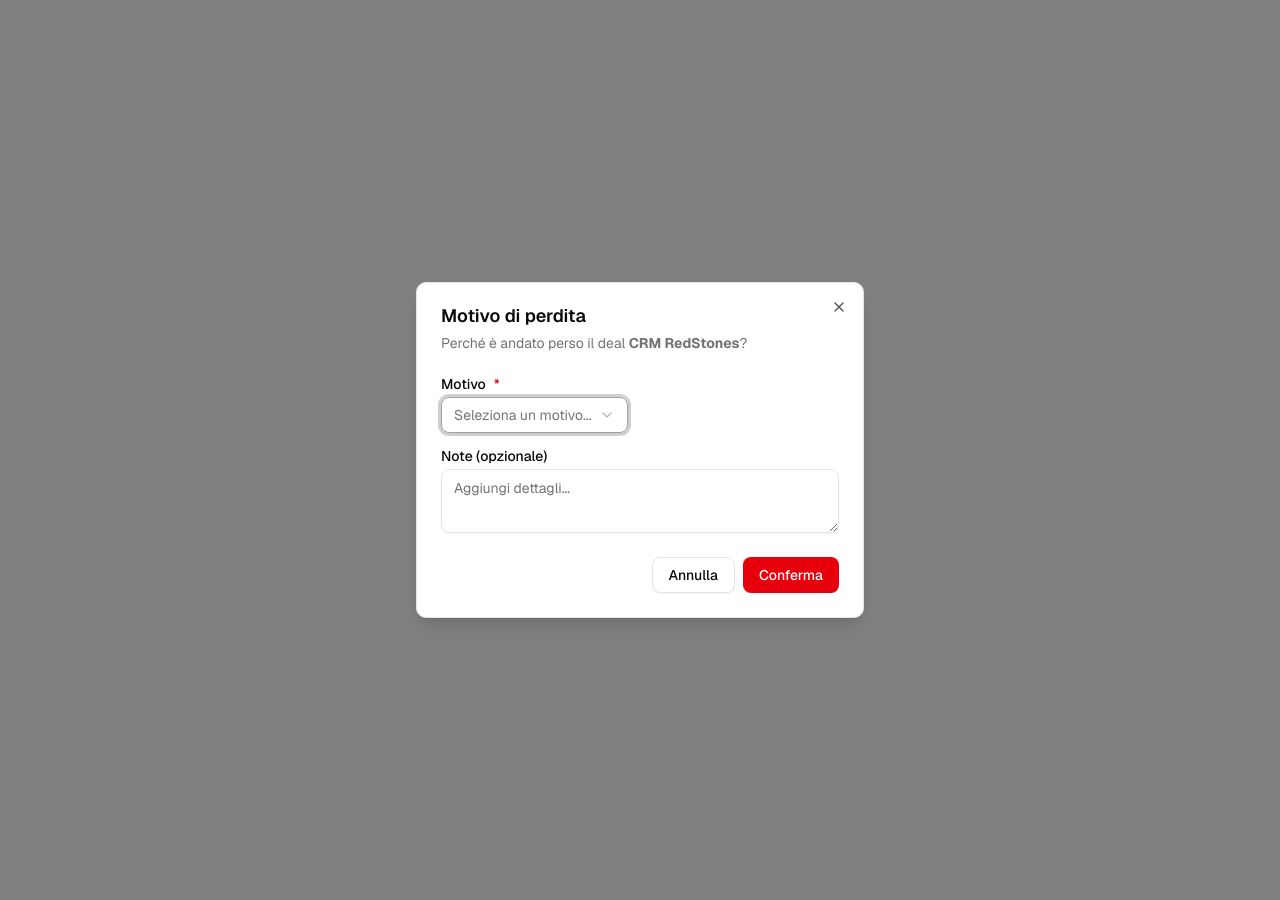
LostReasonDialog › shows error when confirming without selecting reason
This screenshot has width=1280, height=900.
Click the button "Conferma".
click(791, 575)  # box [743, 557, 839, 593]
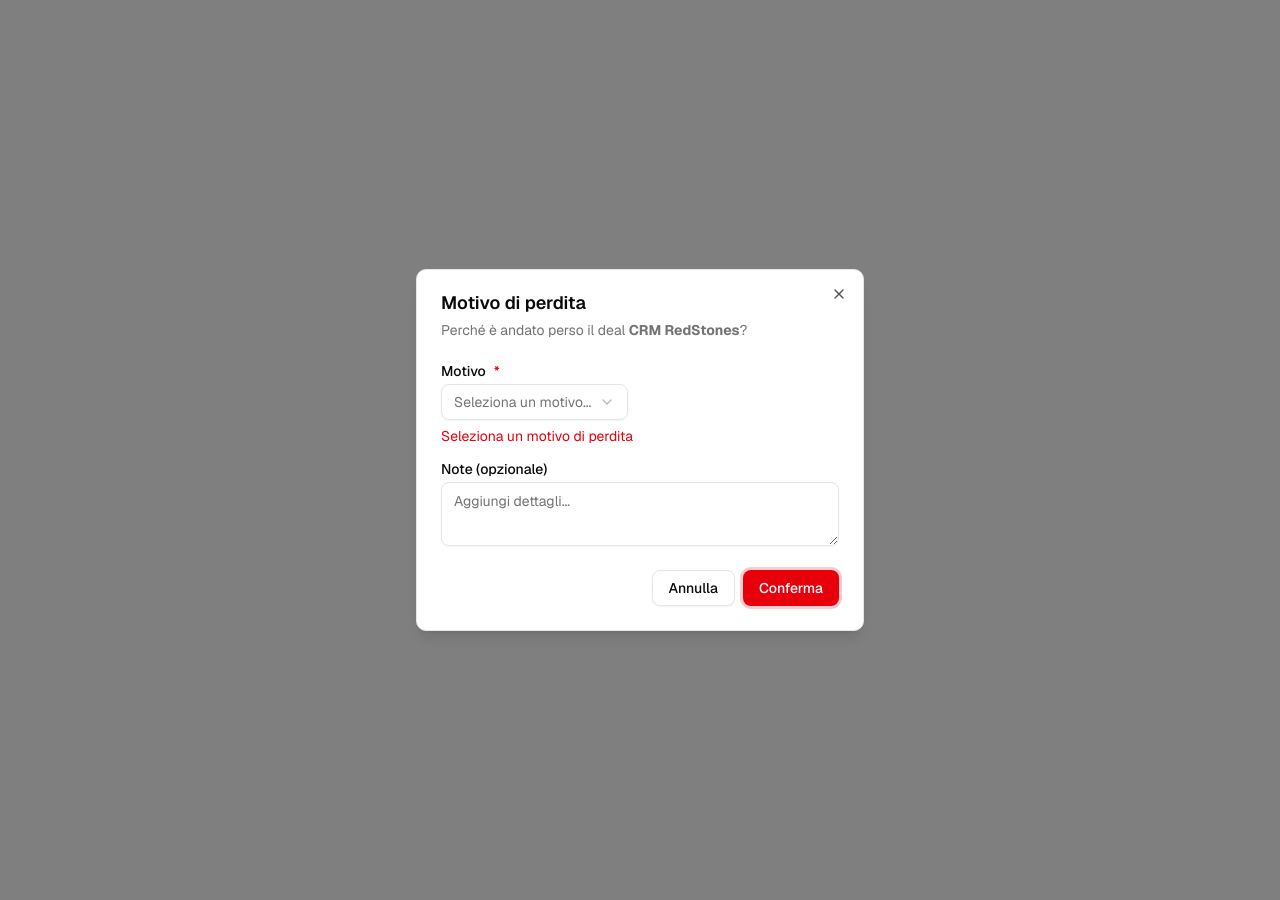
Check: the text "Seleziona un motivo di perdita" is shown, box [441, 427, 633, 445]
